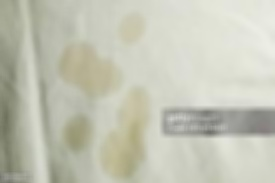oil: (103, 89, 149, 174), (61, 48, 123, 91), (59, 118, 95, 145), (115, 11, 145, 42)
